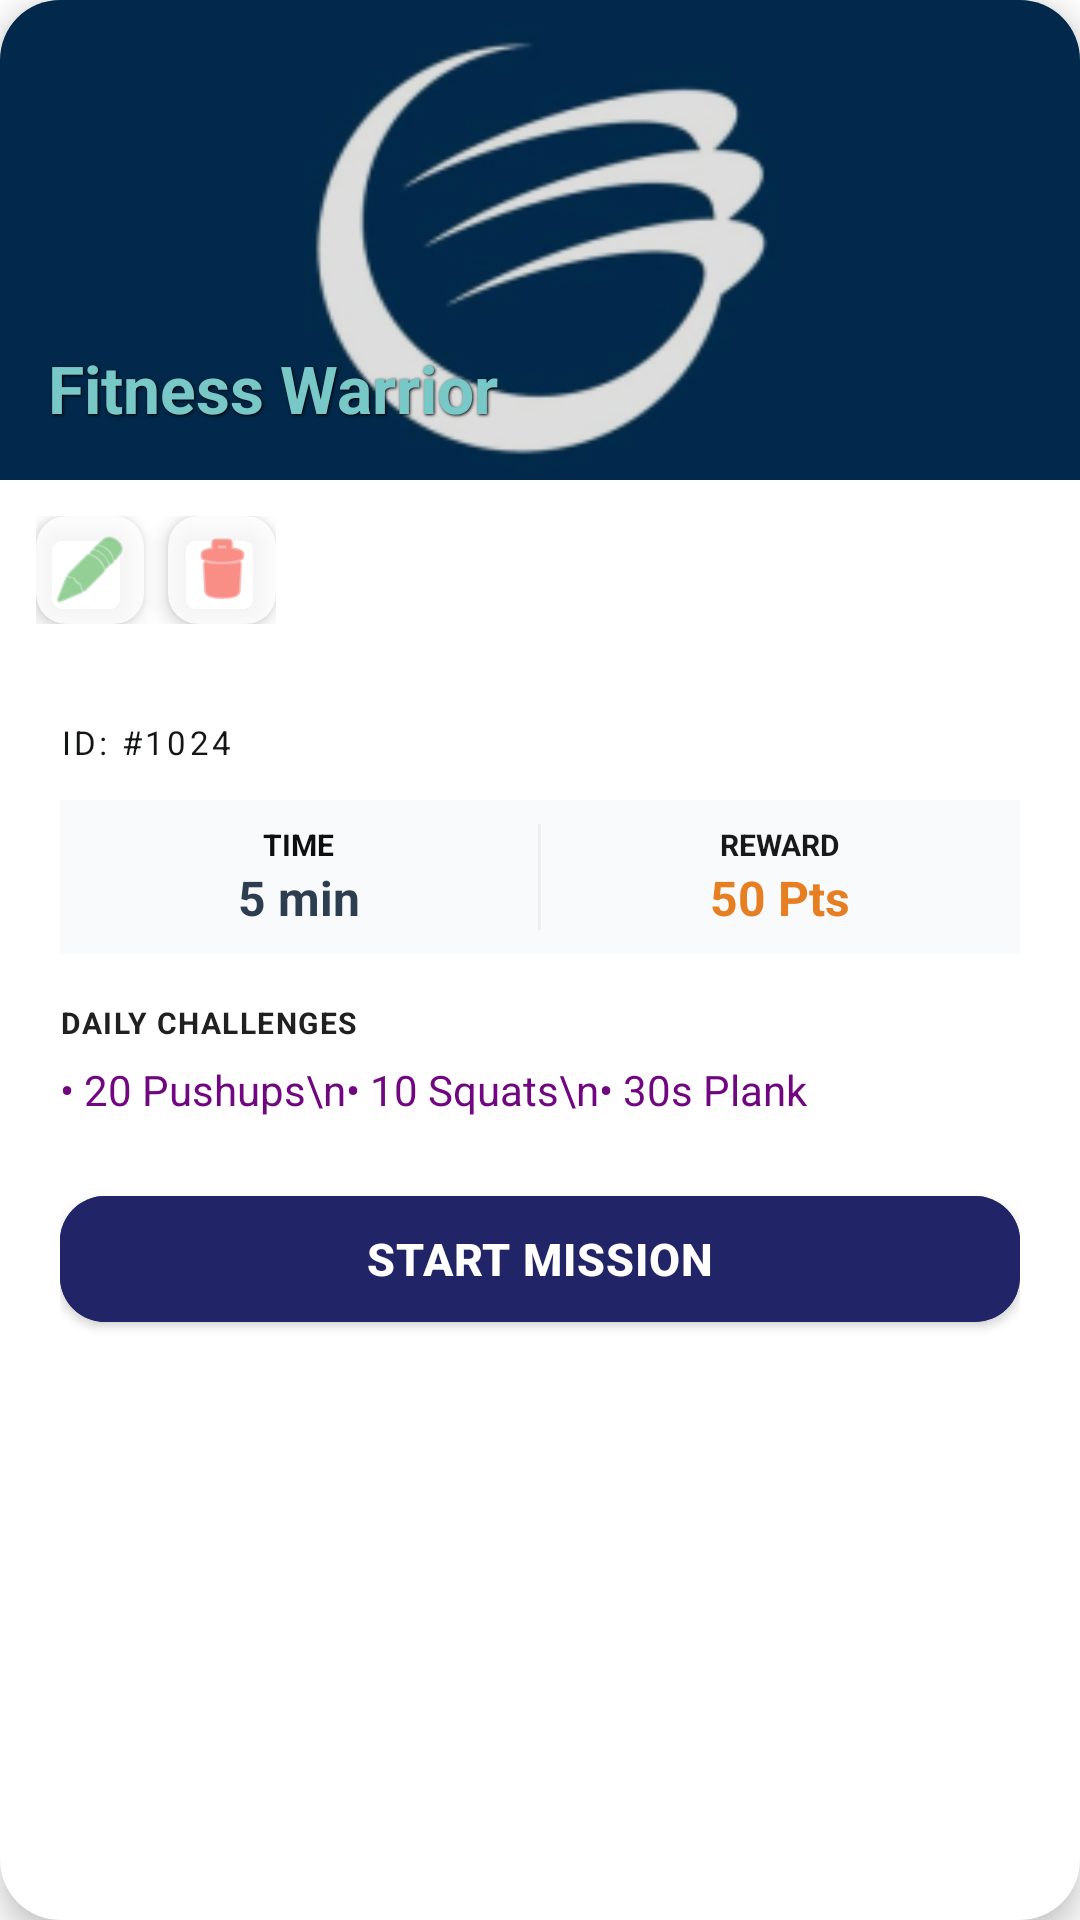

Icons on this 1080×1920 Android screen, each with its box as bbox(x1, y1, x2, y2):
delete: bbox(168, 538, 261, 624)
edit: bbox(36, 536, 125, 624)
